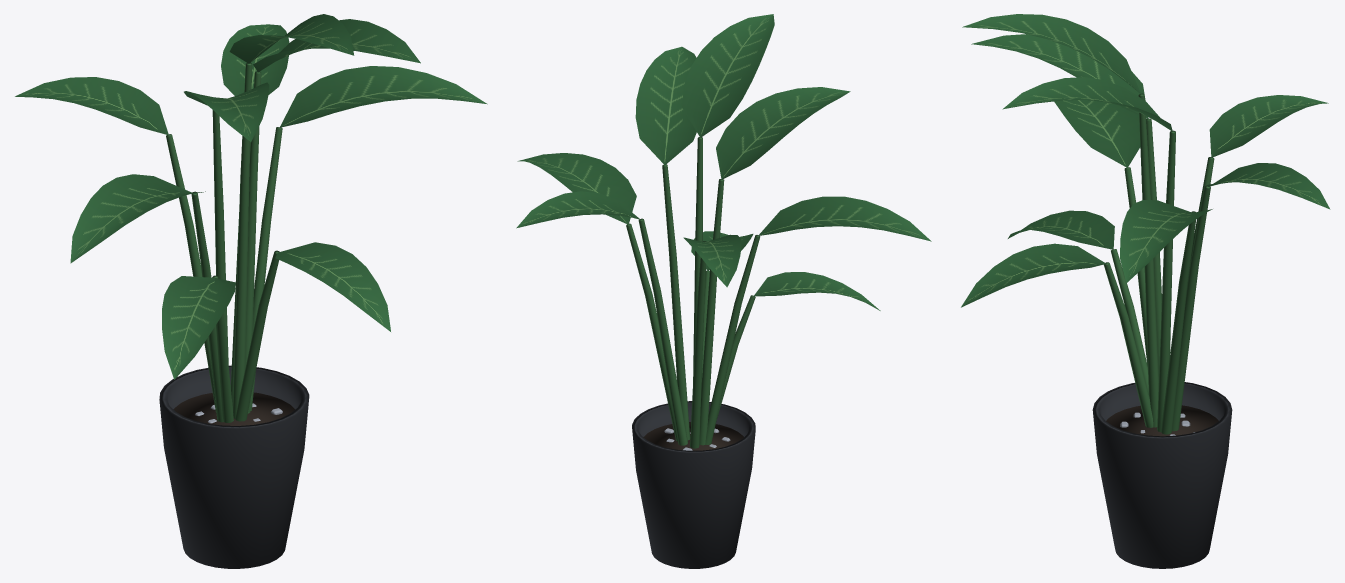
File: obj_plant_strelitzia_nicolai.glb
3 renders of one model, left to right at view 1: azimuth 30°, elevation 25°; view 2: azimuth 150°, elevation 25°; view 3: azimuth 270°, elevation 25°, orthographic. The views are drawn at different scales.
Visible parts, largest first — view 1: obj_plant_strelitzia_nicolai; view 2: obj_plant_strelitzia_nicolai; view 3: obj_plant_strelitzia_nicolai.
Boxes of the visible parts, <box> form: obj_plant_strelitzia_nicolai: <box>15,14,487,568</box>; obj_plant_strelitzia_nicolai: <box>516,14,931,568</box>; obj_plant_strelitzia_nicolai: <box>961,14,1330,568</box>.
Size of the model in its own units: 1.41 by 1.68 by 1.06.
5 materials, 1 textured.
